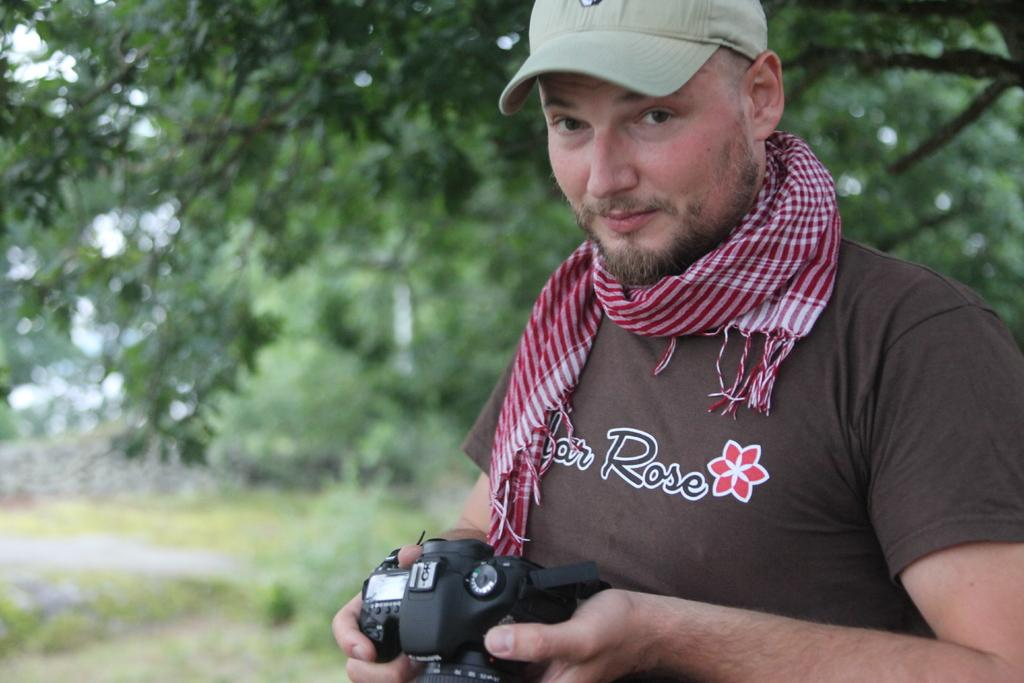Hat: (497, 0, 770, 119)
